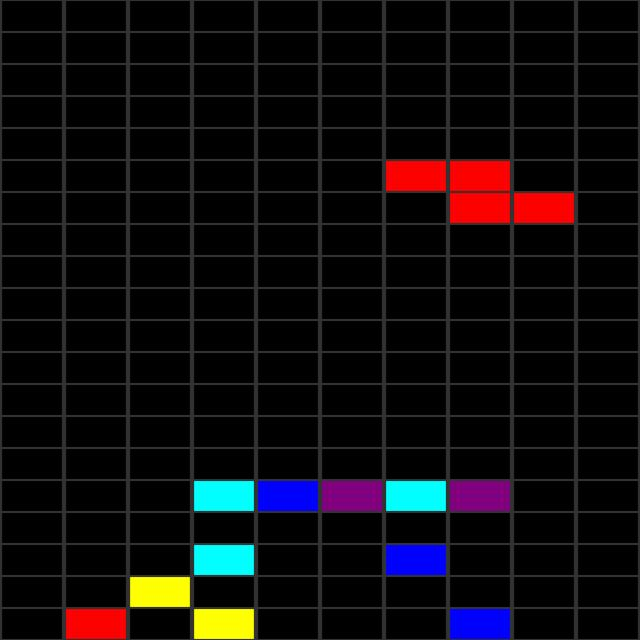Tetrimino_T: (387, 162, 578, 224)
